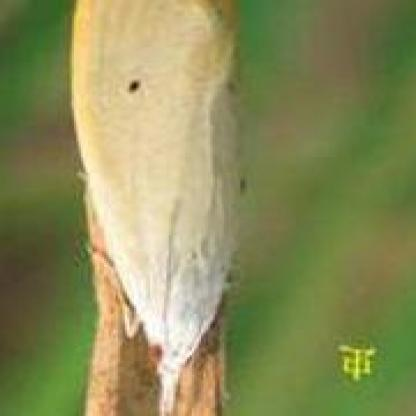stem-borer: (68, 0, 243, 416)
